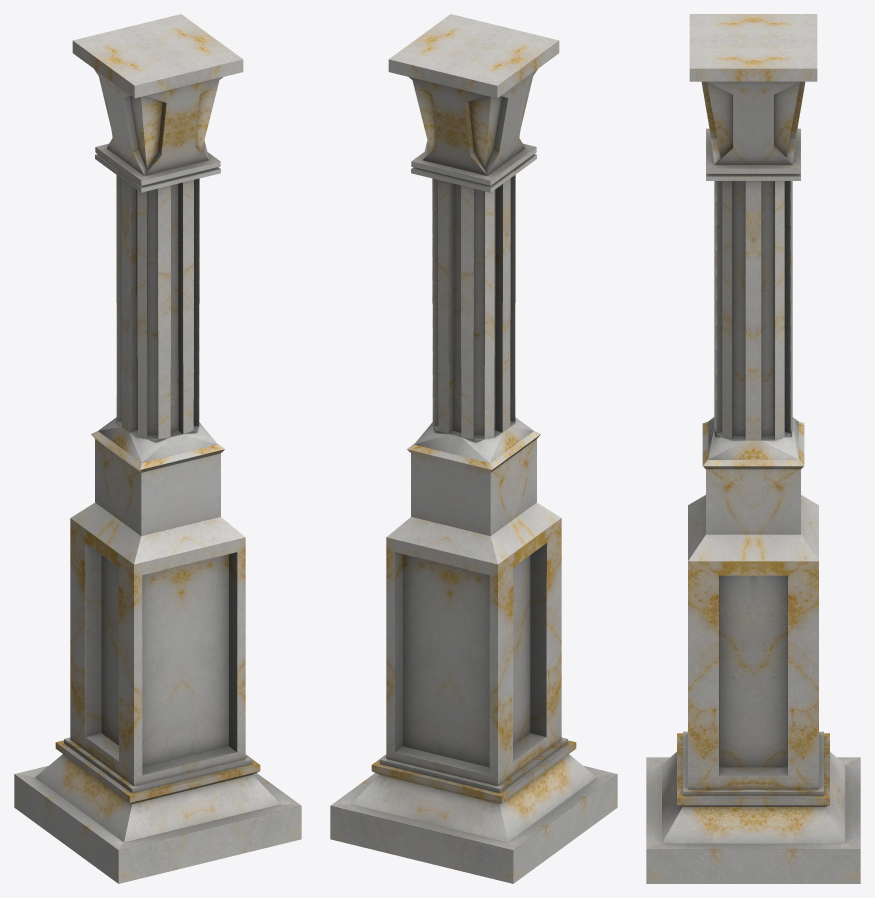
The model's file is Keriya_Son_Prop5Unity.fbx.
3 views of the same model, side by side, from view 1: azimuth 30°, elevation 25°; view 2: azimuth 150°, elevation 25°; view 3: azimuth 270°, elevation 25° (orthographic). The views are drawn at different scales.
Visible parts, largest first — view 1: Box001; view 2: Box001; view 3: Box001.
Part boxes in pixels (x1=…): Box001: x1=14, y1=14, x2=301, y2=883; Box001: x1=330, y1=14, x2=617, y2=883; Box001: x1=646, y1=14, x2=860, y2=883.
Bounding box in the file's own units: 20.92 × 84.58 × 20.64.
Materials: 1 (1 with a texture image).
